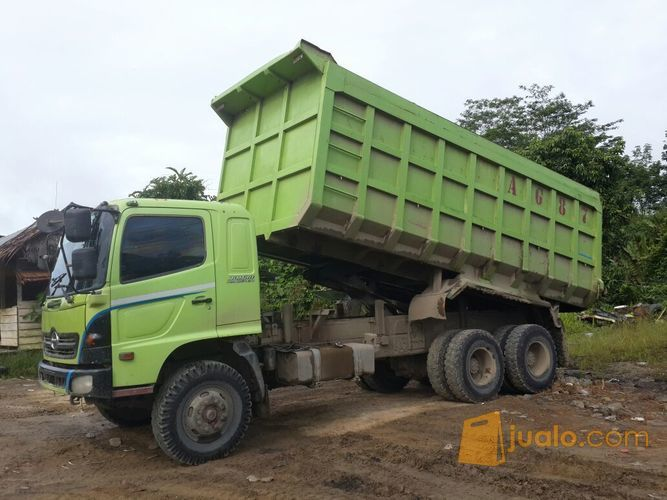truck: (33, 40, 609, 465)
